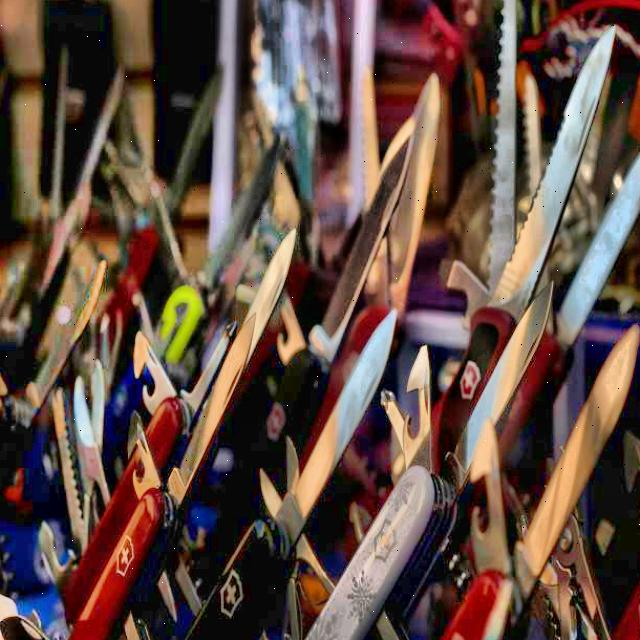knife: (73, 233, 304, 640), (481, 23, 627, 315), (271, 300, 410, 532), (305, 104, 425, 362), (530, 310, 640, 580), (456, 268, 564, 481), (555, 110, 640, 347)
